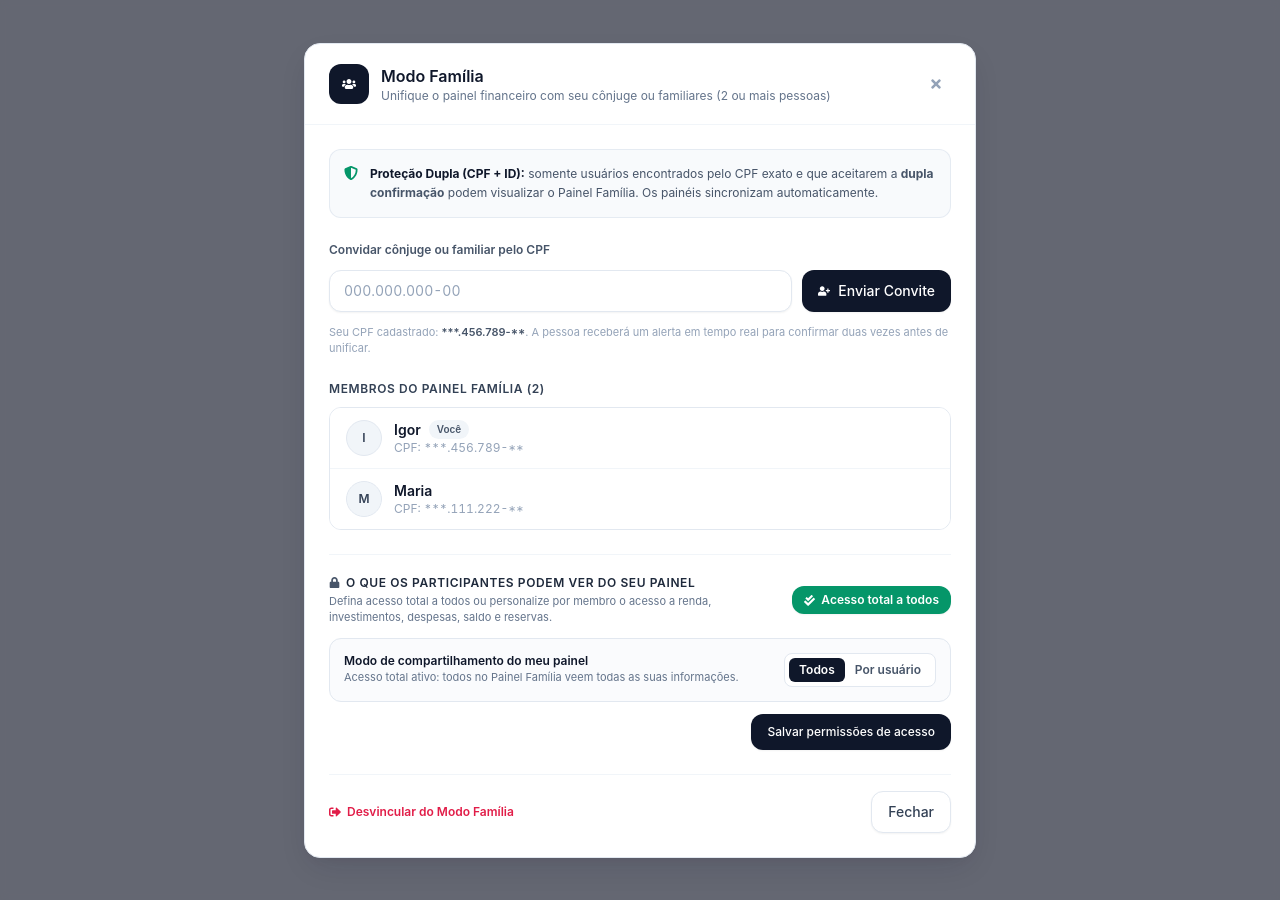
Test case: FamilyModal privacy controls › allows switching to per-member permissions, toggling income/investments, and activating full access to all
Later steps or results of the test are not shown.
Click the button "Por usuário" at (888, 670), box [845, 658, 931, 682]
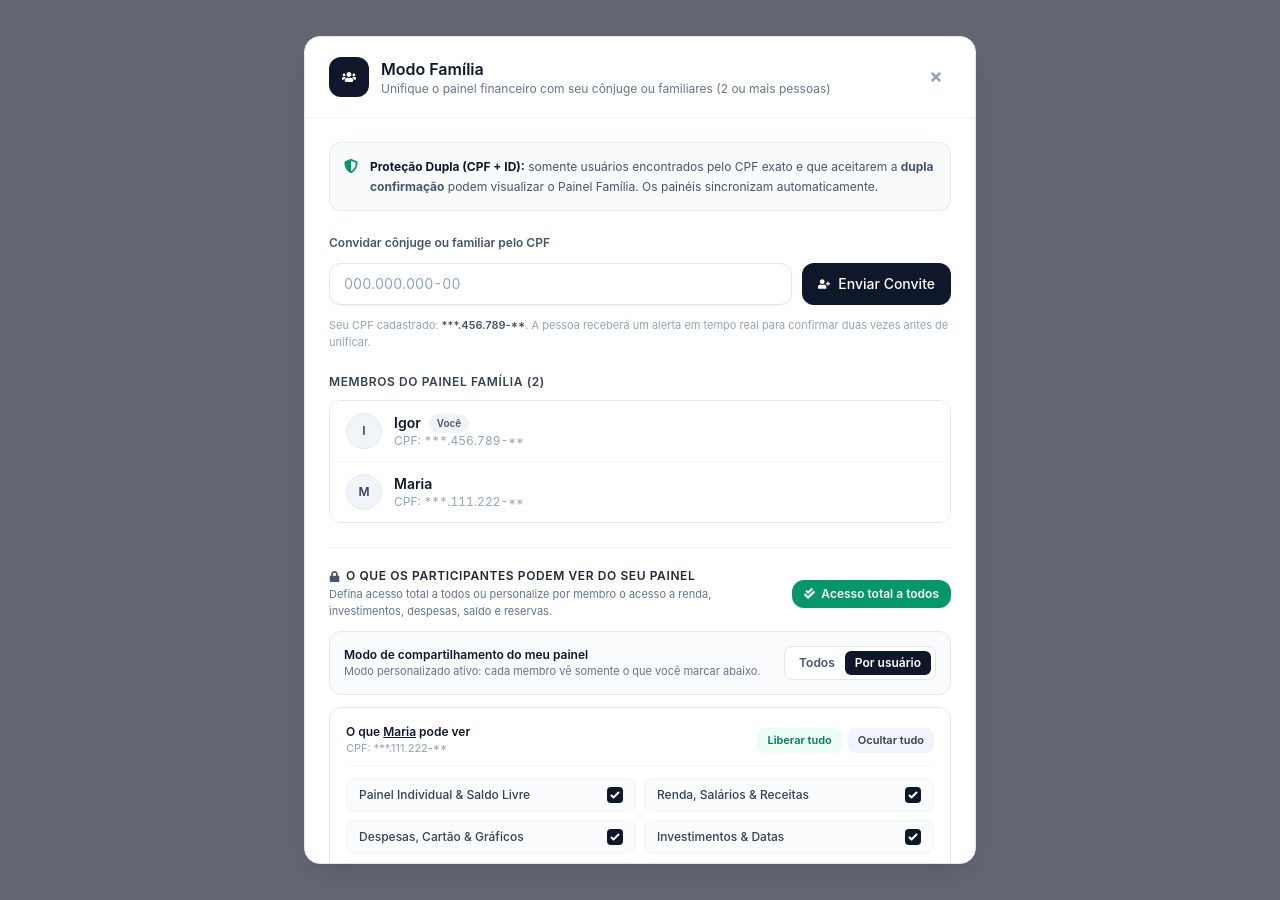
Now the text "O que Maria pode ver" is shown, box [346, 724, 470, 740]
Now the checkbox labelled "Renda, Salários & Receitas" is checked
Click the checkbox labelled "Renda, Salários & Receitas" at (913, 794), box [905, 786, 921, 802]
(page scrolled)
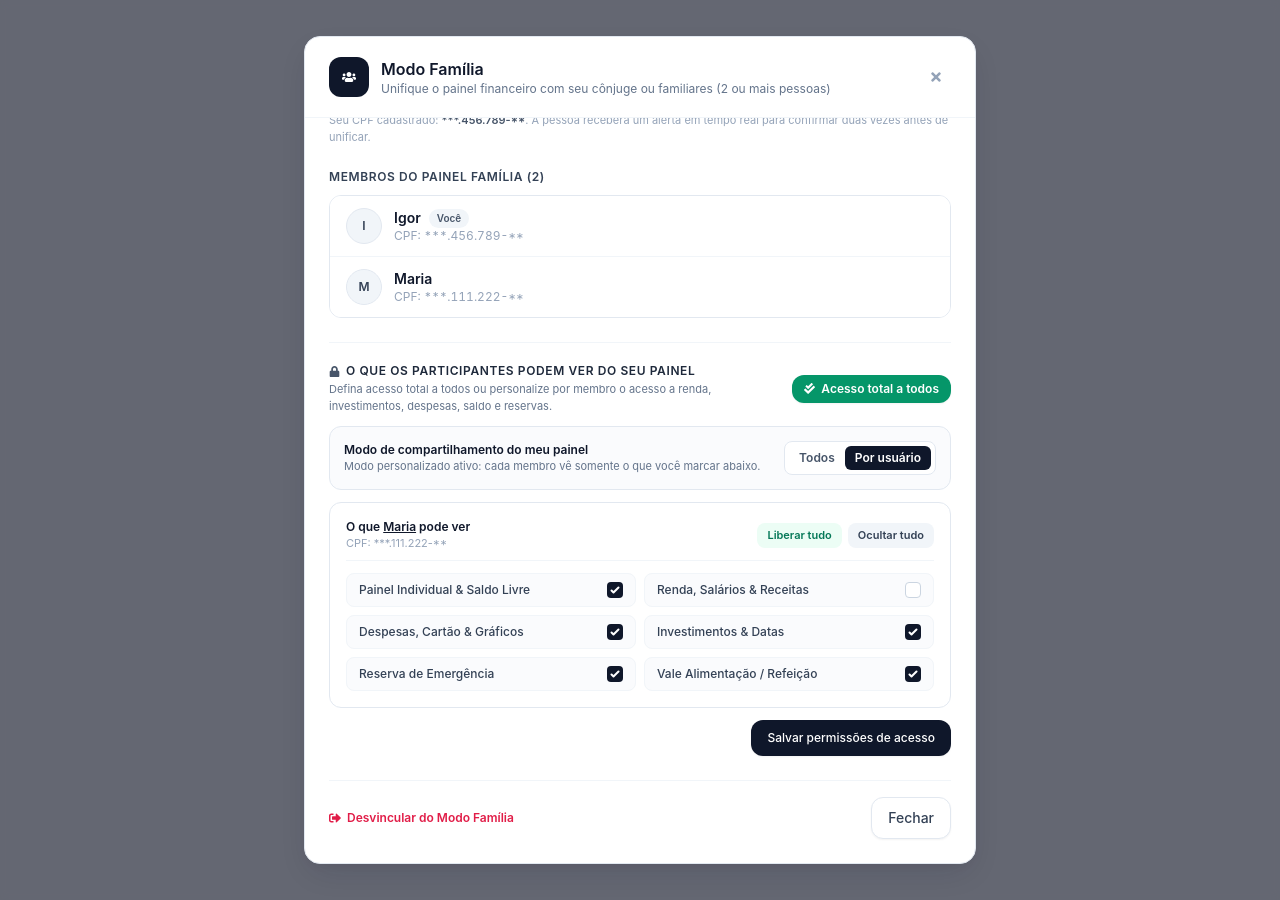
Now the checkbox labelled "Renda, Salários & Receitas" is not checked, box [905, 582, 921, 598]
